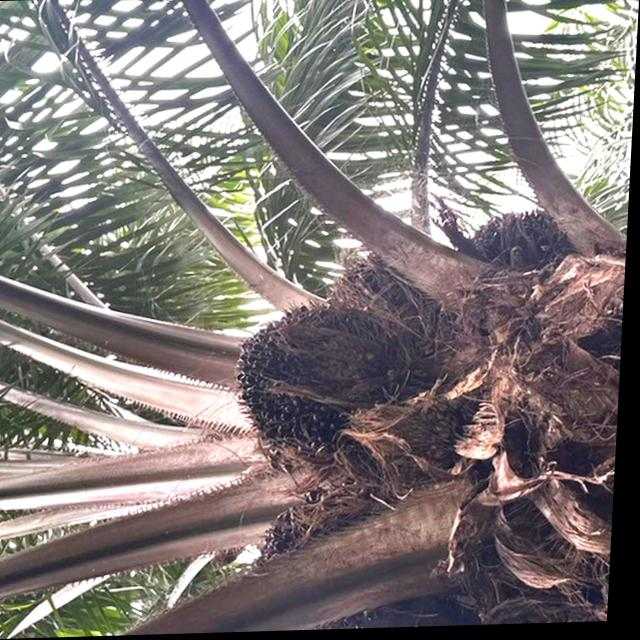unripe: (230, 296, 411, 464)
